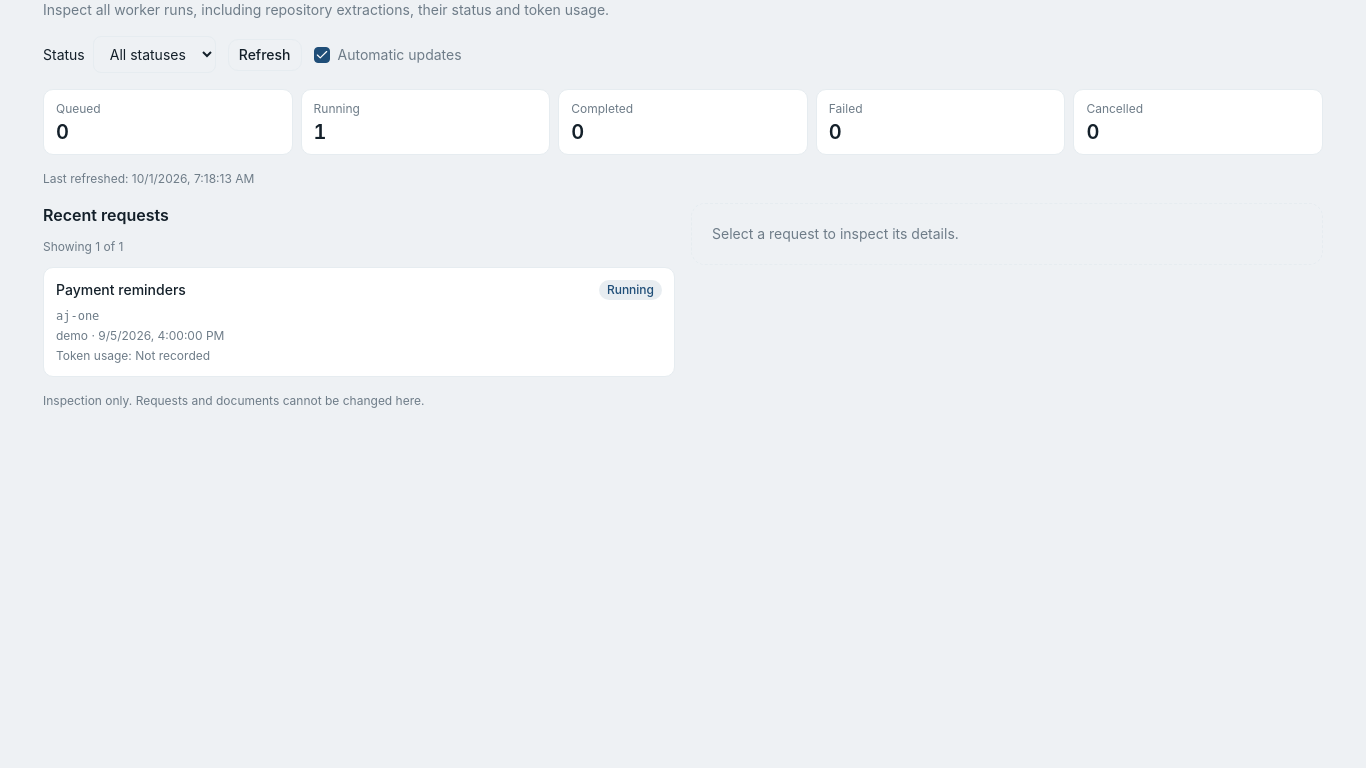
Scenario: Agent queue inspector › shows saved request context and execution identifiers without mutation controls
This screenshot has width=1366, height=768.
Click the button "Payment reminders" at coordinates (121, 290), box x1=43 y1=267 x2=675 y2=377
(page scrolled)
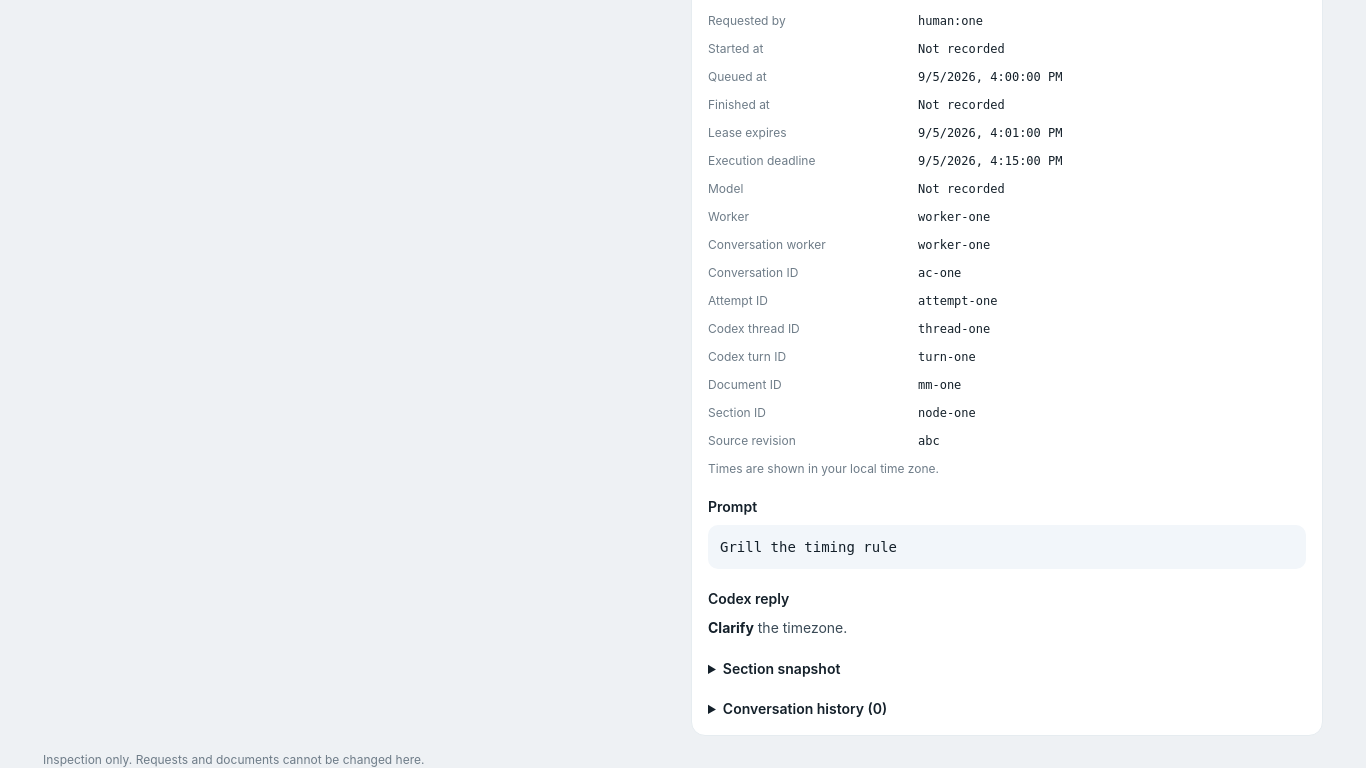
Check: the text "thread-one" is shown, box x1=918 y1=322 x2=990 y2=336
Check: the text "worker-one" is shown 2 times, box x1=918 y1=210 x2=990 y2=224; x1=918 y1=238 x2=990 y2=252
Check: the text "9/5/2026, 4:00:00 PM" is shown, box x1=918 y1=70 x2=1062 y2=84
